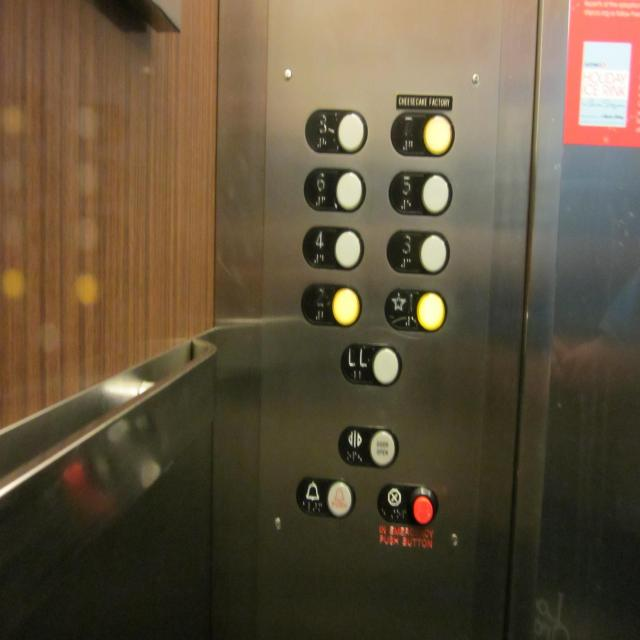1: (384, 287, 448, 332)
2: (300, 283, 362, 326)
3: (386, 230, 450, 274)
4: (302, 226, 365, 271)
5: (388, 170, 453, 217)
6: (304, 166, 366, 214)
7: (390, 111, 454, 156)
8: (304, 109, 368, 154)
LL: (341, 342, 403, 387)
alarm: (296, 474, 358, 520)
open: (337, 424, 404, 471)
stop: (378, 482, 440, 527)
